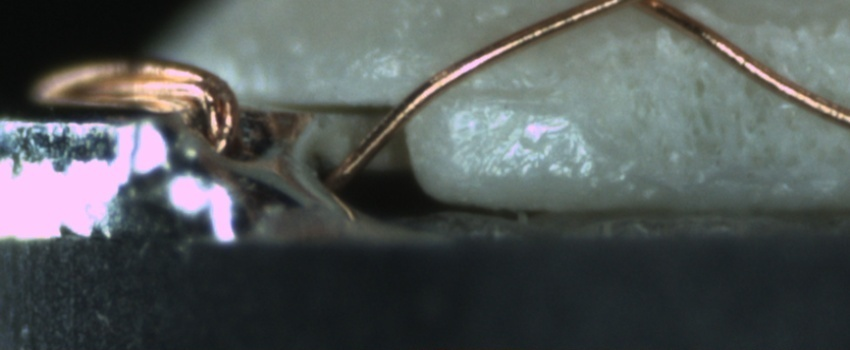CL: (583, 0, 682, 18)
DL: (446, 66, 560, 127)
TE: (25, 44, 248, 157)
